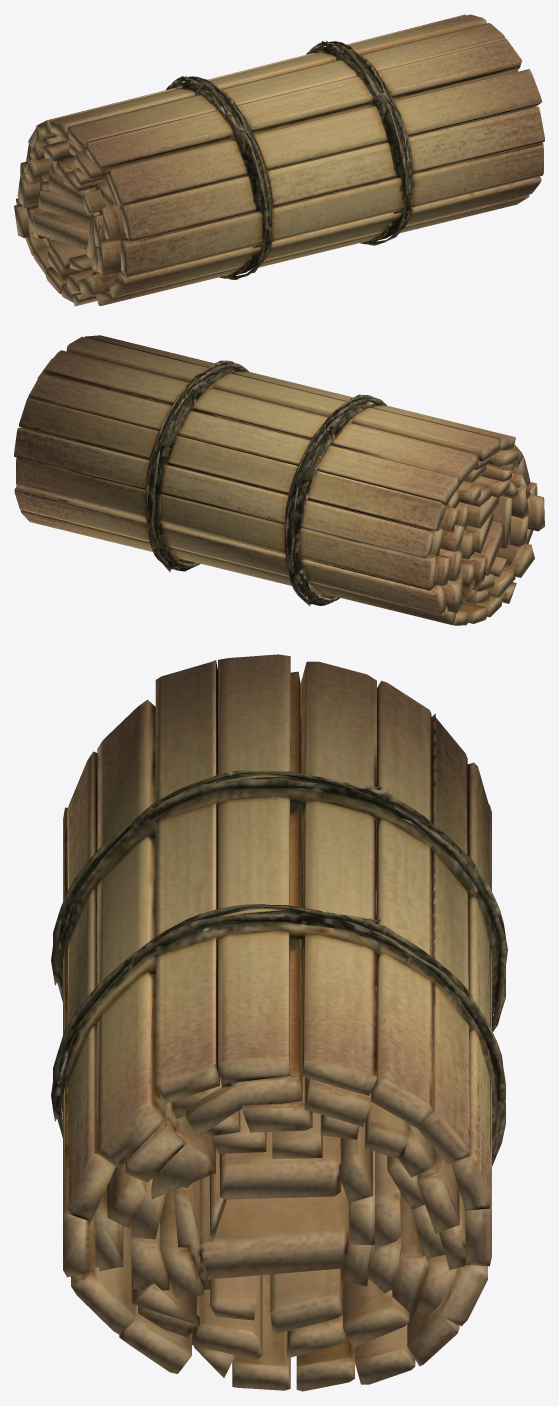
File: tripo_convert_11dda4ca-667d-4194-92fe-6756d3d2a63d.fbx
3 renders of one model, top to bottom at view 1: azimuth 30°, elevation 25°; view 2: azimuth 150°, elevation 25°; view 3: azimuth 270°, elevation 25°, orthographic. The views are drawn at different scales.
Visible parts, largest first — view 1: tripo_node_11dda4ca; view 2: tripo_node_11dda4ca; view 3: tripo_node_11dda4ca.
Boxes of the visible parts, <box> form: tripo_node_11dda4ca: <box>14,14,544,306</box>; tripo_node_11dda4ca: <box>14,335,544,625</box>; tripo_node_11dda4ca: <box>51,654,507,1391</box>.
Size of the model in its own units: 0.998 by 0.3965 by 0.4434.
Materials: 1 (1 with a texture image).
